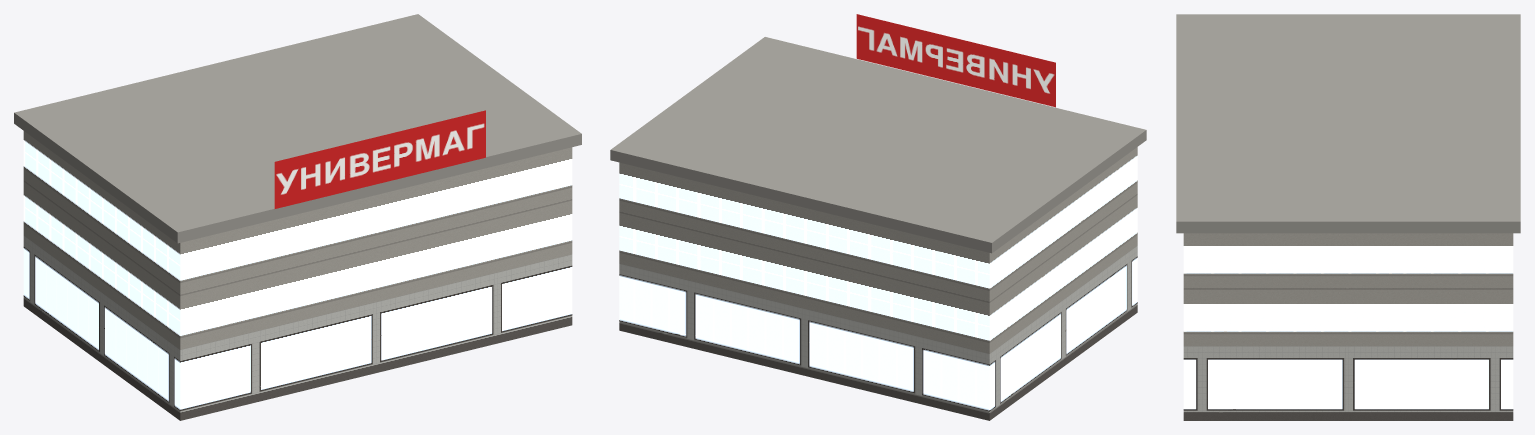
Rendered from sov_univermag.glb.
3 views of the same model, side by side, from view 1: azimuth 30°, elevation 25°; view 2: azimuth 150°, elevation 25°; view 3: azimuth 270°, elevation 25° (orthographic). The views are drawn at different scales.
Parts seen in each view (by area): view 1: box; view 2: box; view 3: box.
Part boxes in pixels (x1,y1,x2,y2): box: [14, 14, 581, 420]; box: [610, 14, 1146, 420]; box: [1176, 14, 1520, 420].
Size of the model in its own units: 26.8 by 15.2 by 18.85.
4 materials, 3 textured.
